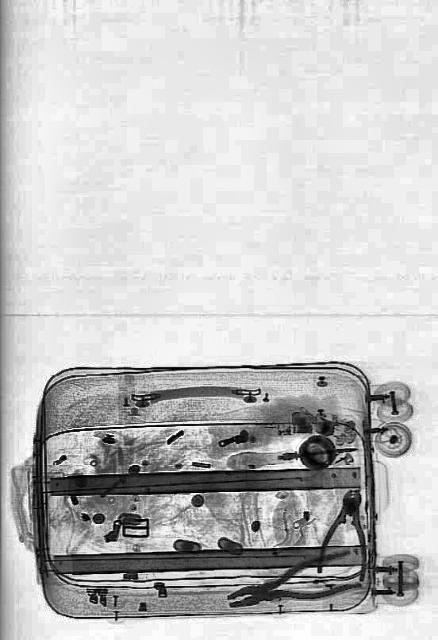Pliers: (223, 546, 360, 622), (317, 484, 373, 584)
